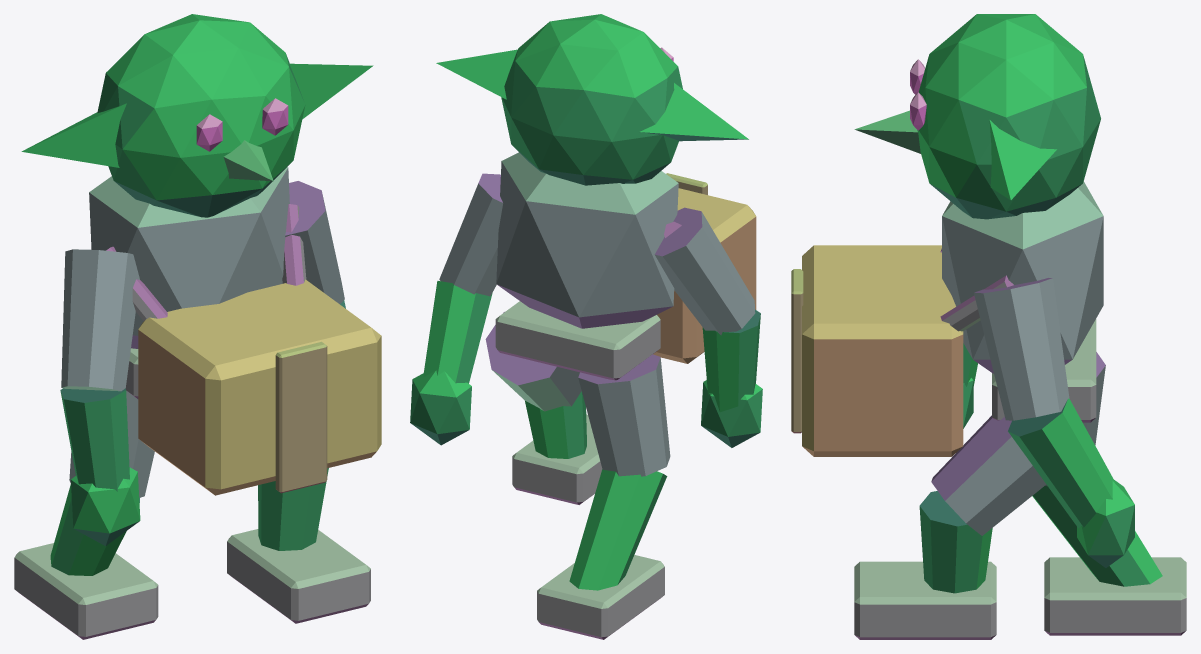
File: creature_goblin_tribute_bearer_passing_b_v01.glb
3 renders of one model, left to right at view 1: azimuth 30°, elevation 25°; view 2: azimuth 150°, elevation 25°; view 3: azimuth 270°, elevation 25°, orthographic. The views are drawn at different scales.
Parts seen in each view (by area): view 1: GEO_creature_goblin_tribute_bearer_passing_b_v01; view 2: GEO_creature_goblin_tribute_bearer_passing_b_v01; view 3: GEO_creature_goblin_tribute_bearer_passing_b_v01.
Part boxes in pixels (x1=…): GEO_creature_goblin_tribute_bearer_passing_b_v01: x1=14, y1=14, x2=381, y2=639; GEO_creature_goblin_tribute_bearer_passing_b_v01: x1=410, y1=14, x2=762, y2=639; GEO_creature_goblin_tribute_bearer_passing_b_v01: x1=791, y1=14, x2=1186, y2=639.
Size of the model in its own units: 0.88 by 1.46 by 0.8325.
